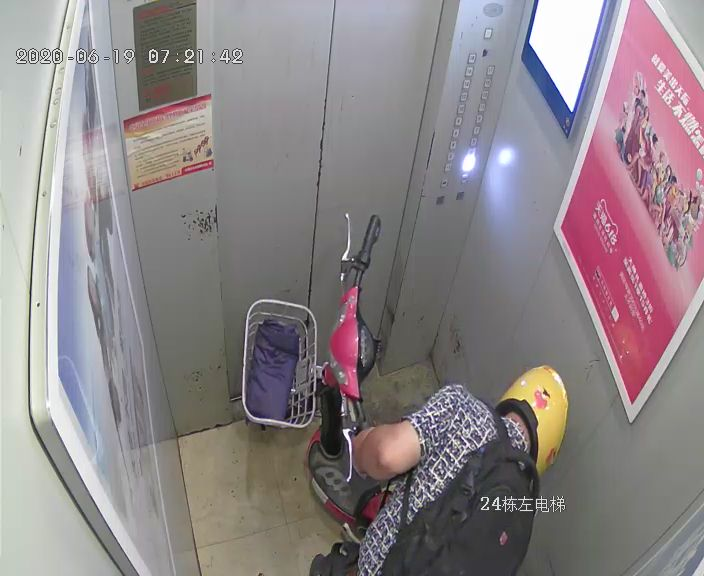Electric-bicycle: (241, 213, 402, 535)
